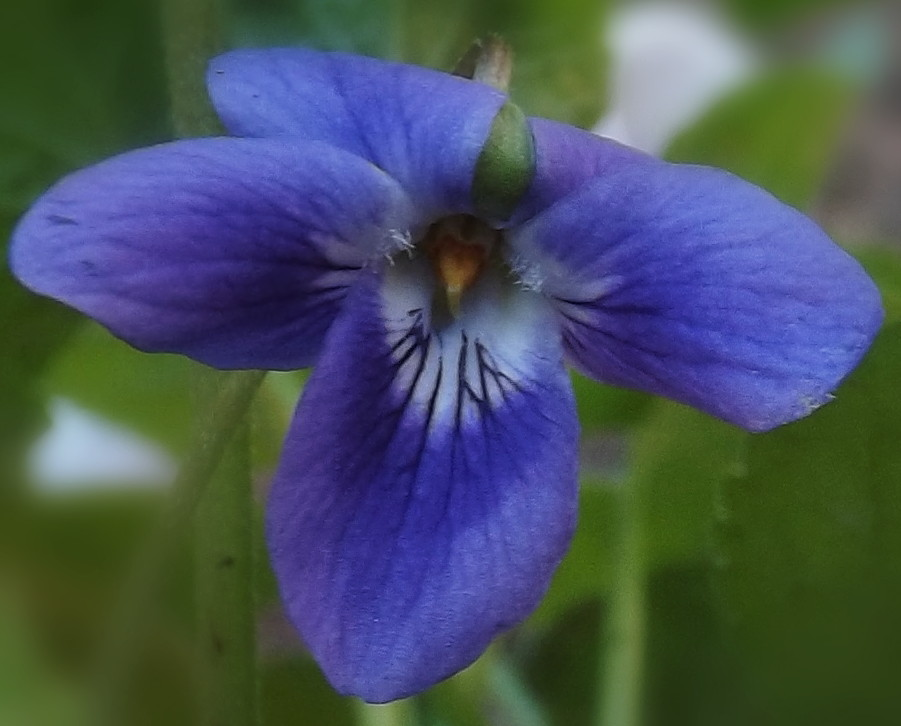violet: (33, 33, 889, 610)
